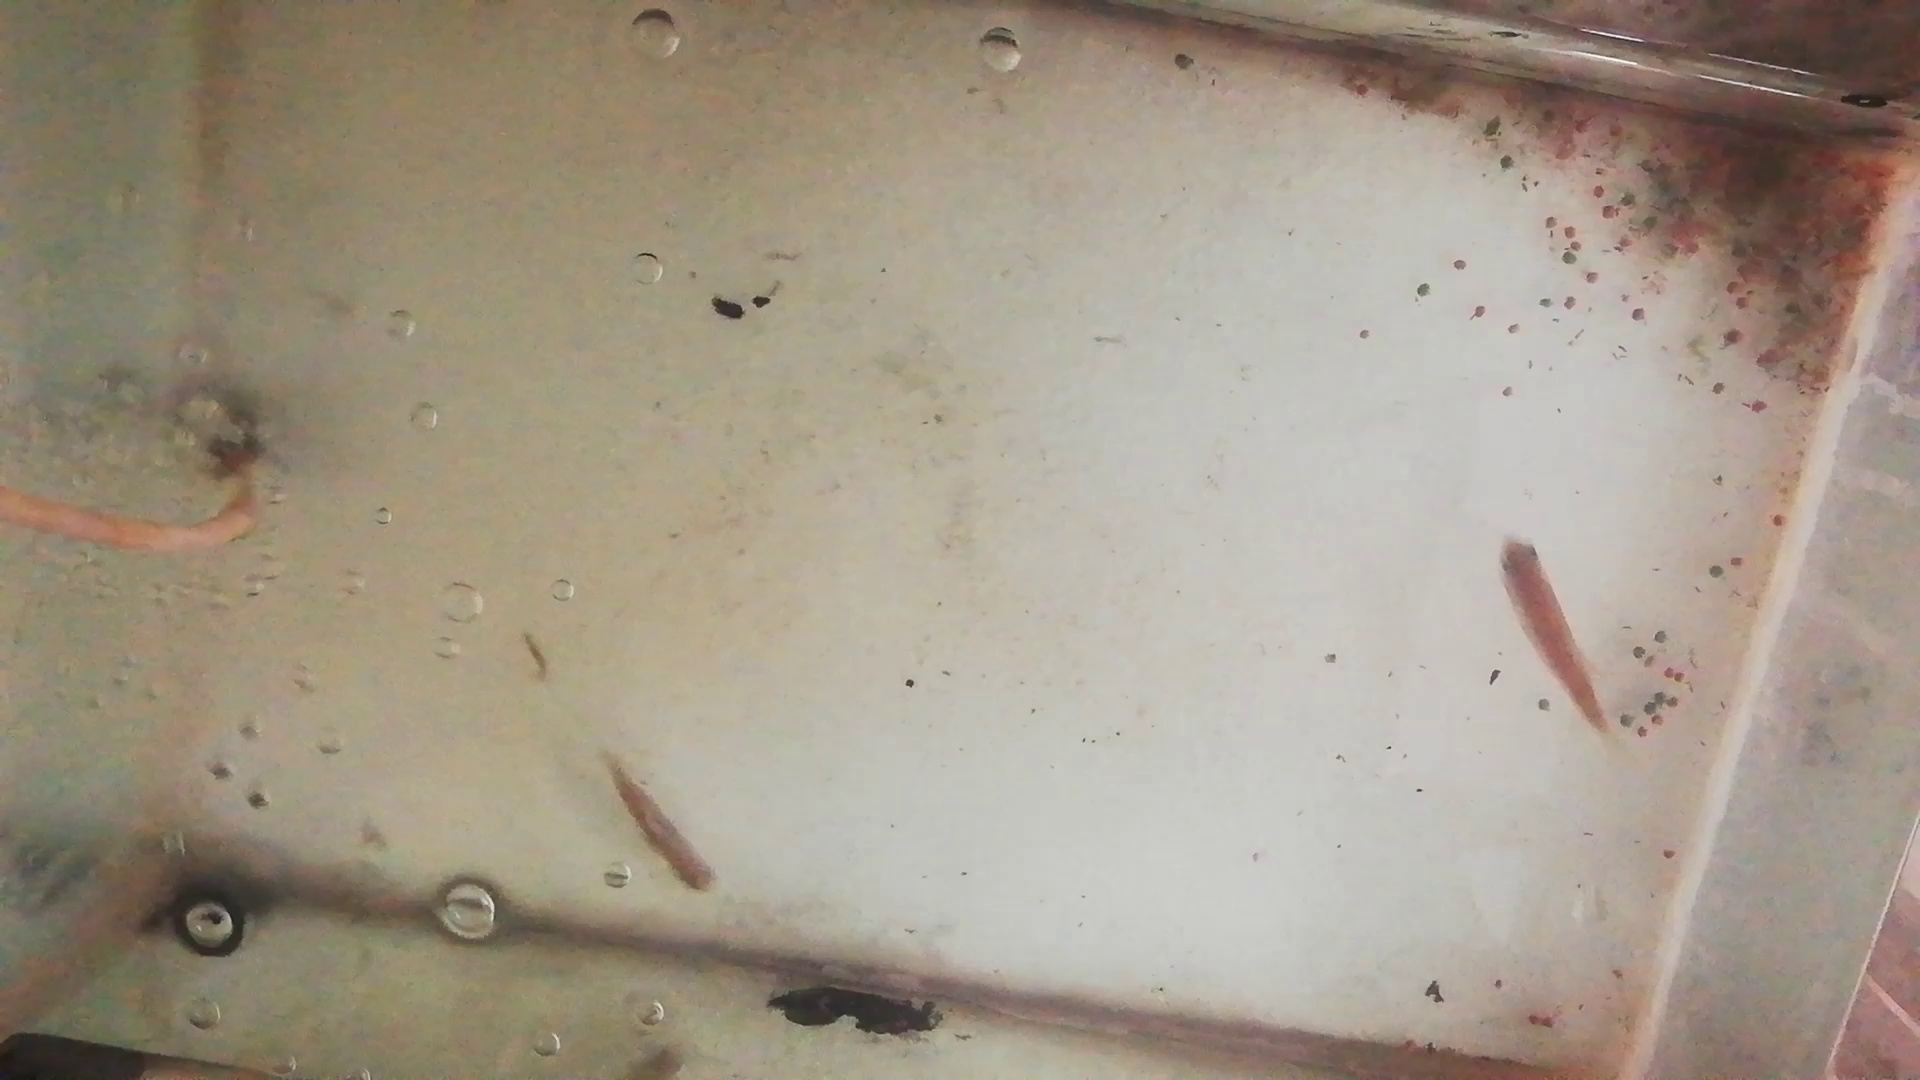fish: (1495, 535, 1607, 733), (593, 748, 717, 893)
